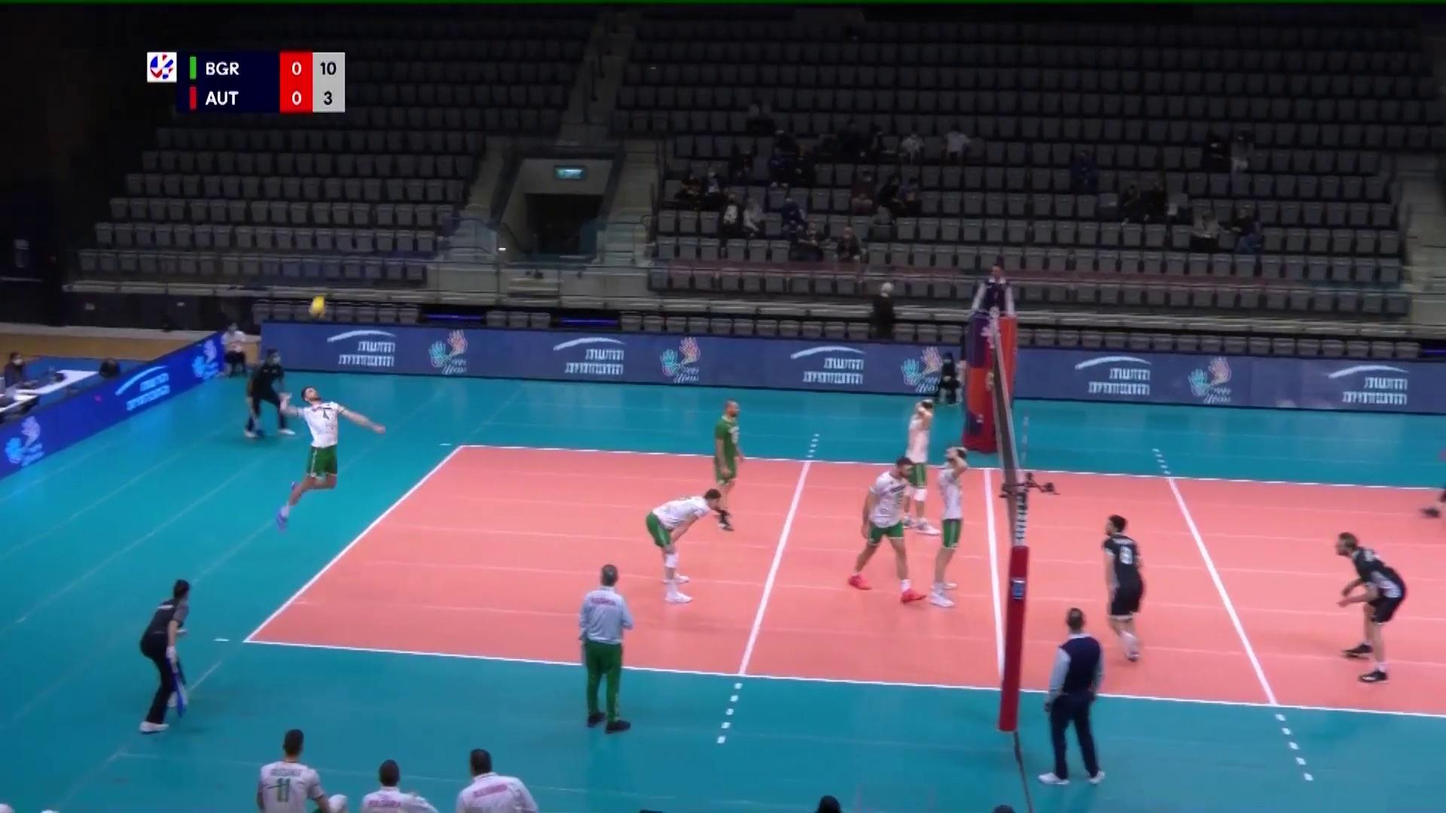ball: (308, 298, 325, 319)
